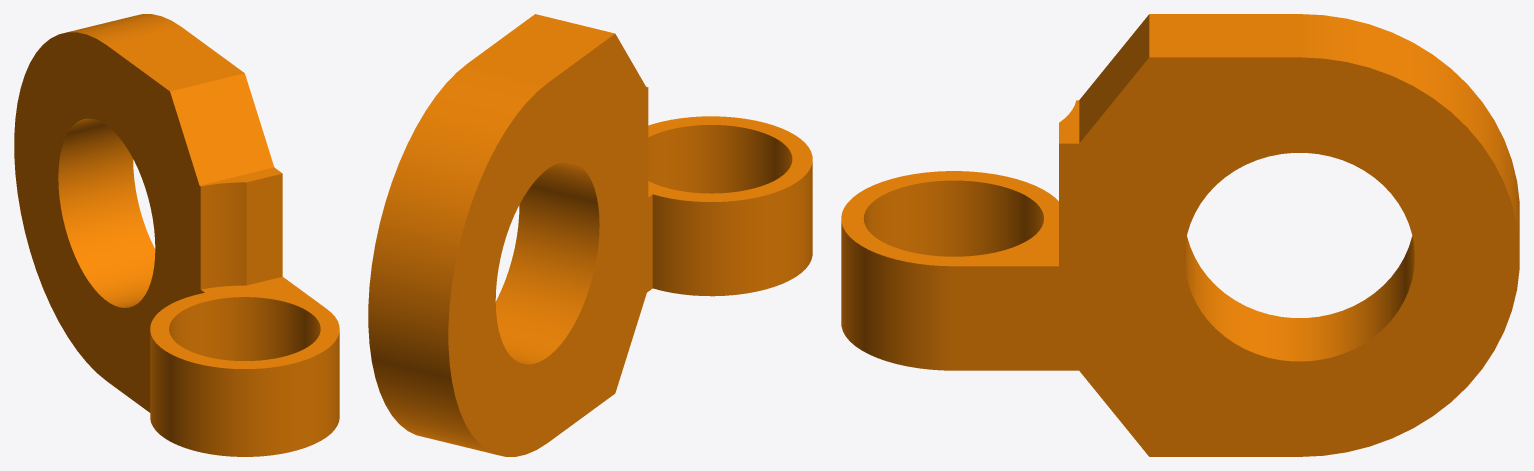
The model's file is Ankle_Mirrored.obj.
3 renders of one model, left to right at view 1: azimuth 30°, elevation 25°; view 2: azimuth 150°, elevation 25°; view 3: azimuth 270°, elevation 25°, orthographic. The views are drawn at different scales.
Parts seen in each view (by area): view 1: mesh220, mesh212, mesh219, mesh210, mesh217, mesh221, mesh224, mesh216, mesh223, mesh215, mesh222; view 2: mesh220, mesh215, mesh212, mesh219, mesh210, mesh216, mesh221; view 3: mesh218, mesh212, mesh210, mesh219, mesh215, mesh221, mesh216, mesh217, mesh222.
Part boxes in pixels (x1=…): mesh220: x1=14, y1=32, x2=204, y2=412; mesh212: x1=150, y1=331, x2=339, y2=456; mesh219: x1=58, y1=118, x2=155, y2=307; mesh210: x1=169, y1=297, x2=320, y2=360; mesh217: x1=170, y1=73, x2=273, y2=185; mesh221: x1=150, y1=276, x2=339, y2=368; mesh224: x1=200, y1=182, x2=246, y2=289; mesh216: x1=107, y1=27, x2=244, y2=91; mesh223: x1=246, y1=173, x2=282, y2=285; mesh215: x1=66, y1=14, x2=180, y2=44; mesh222: x1=200, y1=167, x2=282, y2=186; mesh220: x1=448, y1=33, x2=652, y2=456; mesh215: x1=368, y1=63, x2=547, y2=454; mesh212: x1=652, y1=162, x2=812, y2=296; mesh219: x1=495, y1=161, x2=599, y2=364; mesh210: x1=648, y1=125, x2=792, y2=193; mesh216: x1=468, y1=14, x2=614, y2=82; mesh221: x1=648, y1=116, x2=812, y2=201; mesh218: x1=954, y1=57, x2=1519, y2=456; mesh212: x1=841, y1=222, x2=953, y2=370; mesh210: x1=863, y1=180, x2=1043, y2=256; mesh219: x1=1184, y1=236, x2=1414, y2=361; mesh215: x1=1299, y1=14, x2=1519, y2=243; mesh221: x1=841, y1=171, x2=1058, y2=266; mesh216: x1=1149, y1=14, x2=1299, y2=57; mesh217: x1=1079, y1=14, x2=1149, y2=142; mesh222: x1=1059, y1=100, x2=1079, y2=143.
Bounding box in the file's own units: 0.045 × 0.088 × 0.1354.
